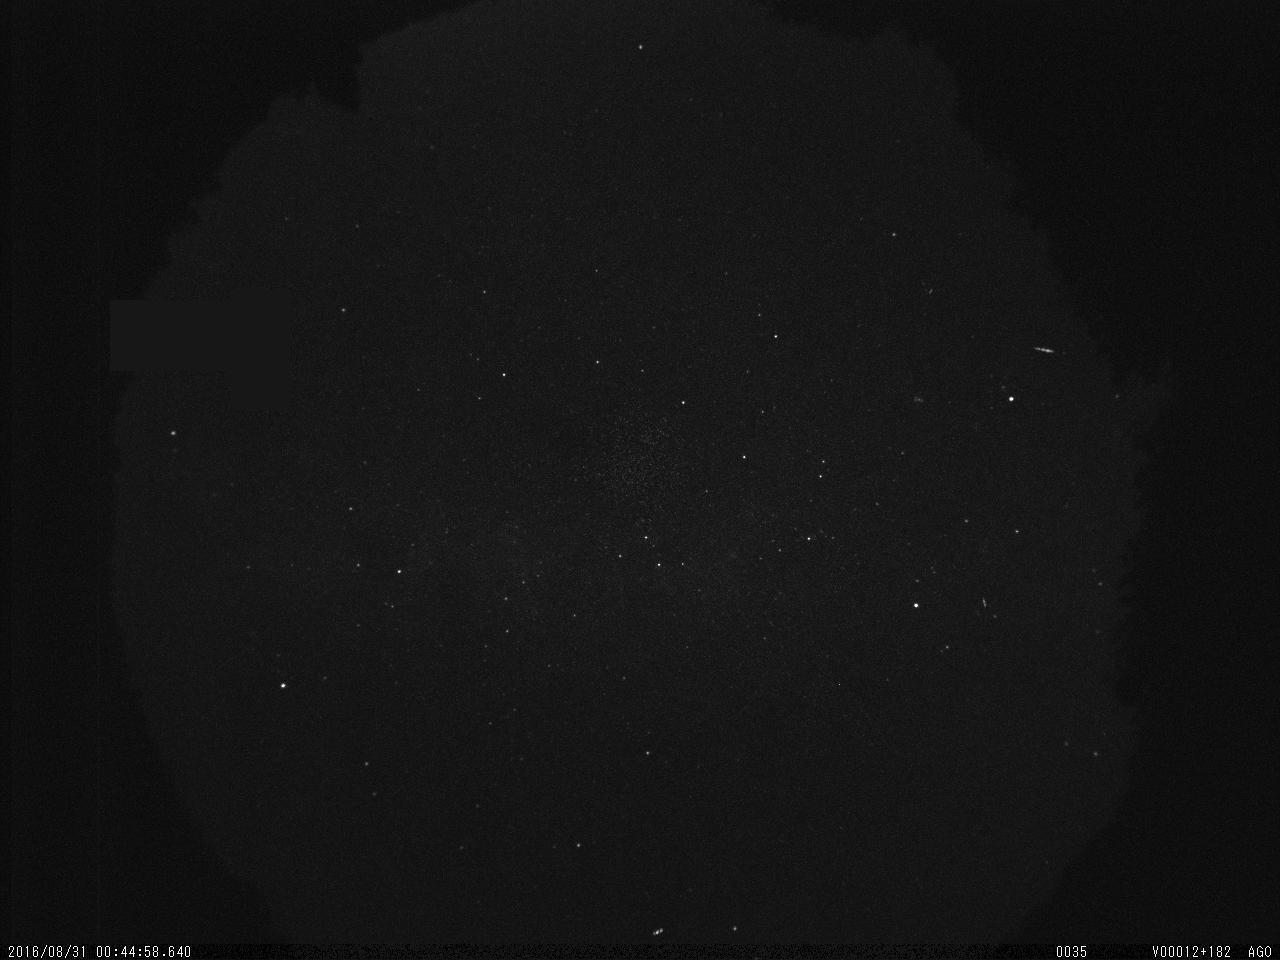meteor: (1030, 338, 1063, 364)
